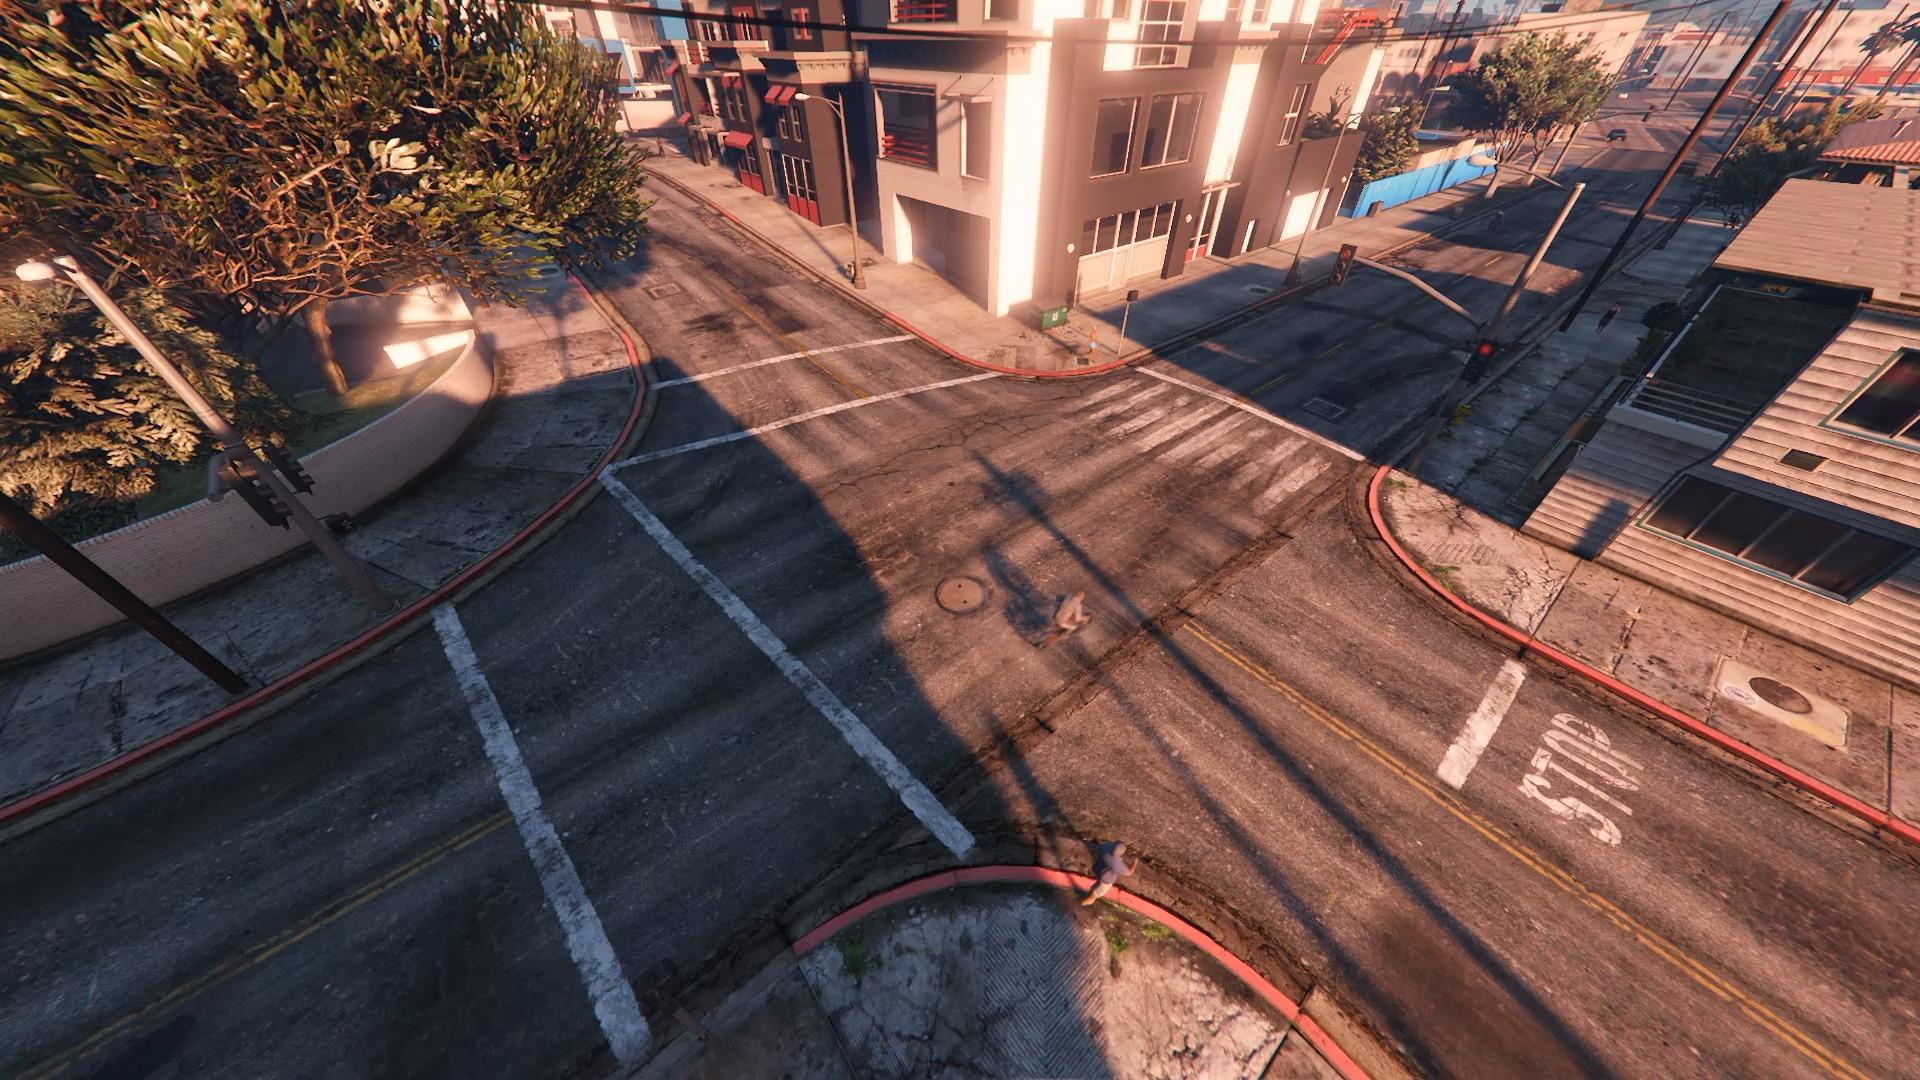car: (1675, 161, 1698, 179), (1487, 210, 1502, 232), (1605, 128, 1627, 142), (1618, 91, 1629, 99)
